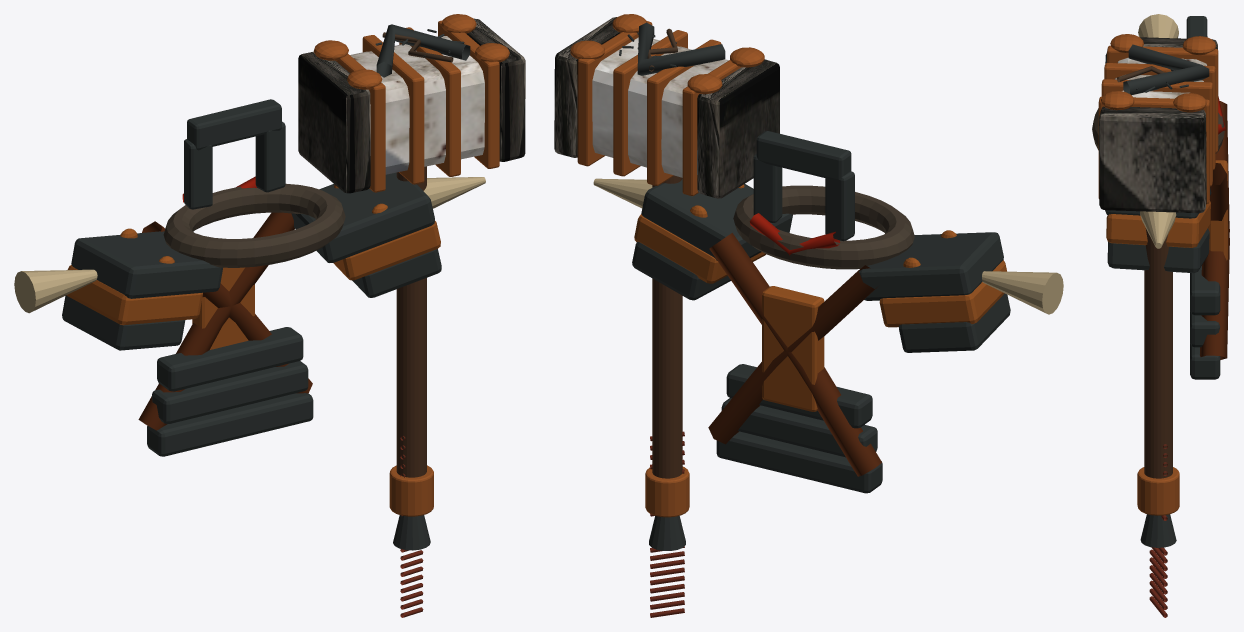
Rendered from brute_colossus_role_kit_LOD0.glb.
3 renders of one model, left to right at view 1: azimuth 30°, elevation 25°; view 2: azimuth 150°, elevation 25°; view 3: azimuth 270°, elevation 25°, orthographic. The views are drawn at different scales.
Parts seen in each view (by area): view 1: ColossusFurNeckRing, ColossusTwoHandMaul_MaulImpactFace, ColossusTwoHandMaul_ColossusMaulStoneCore, ColossusIronShoulderPlate, ColossusTwoHandMaul_MaulBlackOakHaft, ColossusIronShoulderPlate.003, ColossusAbdominalLamella.002, ColossusAbdominalLamella, ColossusAbdominalLamella.001, ColossusIronShoulderPlate.001, ColossusTwoHandMaul_MaulImpactFace.001, ColossusHarnessDiagonal.001 (+17 smaller); view 2: ColossusTwoHandMaul_MaulImpactFace, ColossusFurNeckRing, ColossusTwoHandMaul_ColossusMaulStoneCore, ColossusIronShoulderPlate, ColossusTwoHandMaul_MaulBlackOakHaft, ColossusBronzeSternumPlate, ColossusHarnessDiagonal.001, ColossusIronShoulderPlate.003, ColossusAbdominalLamella.002, ColossusHarnessDiagonal, ColossusIronShoulderPlate.001, ColossusAbdominalLamella.001 (+18 smaller); view 3: ColossusTwoHandMaul_MaulImpactFace.001, ColossusTwoHandMaul_MaulBlackOakHaft, ColossusHarnessDiagonal, ColossusIronShoulderPlate.004, ColossusIronShoulderPlate.005, ColossusTwoHandMaul_MaulLambda, ColossusTwoHandMaul_MaulButtCap, ColossusTwoHandMaul_MaulBronzeBand, ColossusAbdominalLamella, ColossusTwoHandMaul_MaulBronzeBand.002, ColossusTwoHandMaul_MaulBronzeBand.001, ColossusTwoHandMaul_MaulBronzeBand.003 (+17 smaller).
Boxes of the visible parts, x1=… form: ColossusFurNeckRing: x1=163, y1=183, x2=345, y2=267; ColossusTwoHandMaul_MaulImpactFace: x1=298, y1=51, x2=370, y2=193; ColossusTwoHandMaul_ColossusMaulStoneCore: x1=350, y1=36, x2=484, y2=174; ColossusIronShoulderPlate: x1=71, y1=231, x2=222, y2=298; ColossusTwoHandMaul_MaulBlackOakHaft: x1=396, y1=166, x2=426, y2=477; ColossusIronShoulderPlate.003: x1=291, y1=172, x2=434, y2=262; ColossusAbdominalLamella.002: x1=147, y1=393, x2=313, y2=456; ColossusAbdominalLamella: x1=157, y1=327, x2=303, y2=391; ColossusAbdominalLamella.001: x1=152, y1=361, x2=308, y2=423; ColossusIronShoulderPlate.001: x1=66, y1=265, x2=202, y2=325; ColossusTwoHandMaul_MaulImpactFace.001: x1=466, y1=18, x2=525, y2=161; ColossusHarnessDiagonal.001: x1=138, y1=212, x2=294, y2=430; ColossusTwoHandMaul_MaulImpactFace: x1=697, y1=59, x2=779, y2=198; ColossusFurNeckRing: x1=733, y1=185, x2=914, y2=269; ColossusTwoHandMaul_ColossusMaulStoneCore: x1=592, y1=37, x2=728, y2=177; ColossusIronShoulderPlate: x1=859, y1=232, x2=1003, y2=300; ColossusTwoHandMaul_MaulBlackOakHaft: x1=652, y1=175, x2=682, y2=478; ColossusBronzeSternumPlate: x1=762, y1=286, x2=824, y2=411; ColossusHarnessDiagonal.001: x1=709, y1=233, x2=881, y2=476; ColossusIronShoulderPlate.003: x1=641, y1=178, x2=792, y2=260; ColossusAbdominalLamella.002: x1=716, y1=431, x2=882, y2=493; ColossusHarnessDiagonal: x1=708, y1=265, x2=877, y2=444; ColossusIronShoulderPlate.001: x1=879, y1=260, x2=1006, y2=327; ColossusAbdominalLamella.001: x1=721, y1=398, x2=877, y2=457; ColossusTwoHandMaul_MaulImpactFace.001: x1=1099, y1=106, x2=1206, y2=213; ColossusTwoHandMaul_MaulBlackOakHaft: x1=1144, y1=228, x2=1172, y2=478; ColossusHarnessDiagonal: x1=1200, y1=101, x2=1229, y2=359; ColossusIronShoulderPlate.004: x1=1106, y1=200, x2=1210, y2=247; ColossusIronShoulderPlate.005: x1=1107, y1=228, x2=1209, y2=273; ColossusTwoHandMaul_MaulLambda: x1=1123, y1=44, x2=1209, y2=95; ColossusTwoHandMaul_MaulButtCap: x1=1137, y1=467, x2=1179, y2=515; ColossusTwoHandMaul_MaulBronzeBand: x1=1107, y1=45, x2=1218, y2=152; ColossusAbdominalLamella: x1=1190, y1=266, x2=1220, y2=315; ColossusTwoHandMaul_MaulBronzeBand.002: x1=1101, y1=79, x2=1212, y2=186; ColossusTwoHandMaul_MaulBronzeBand.001: x1=1104, y1=63, x2=1215, y2=169; ColossusTwoHandMaul_MaulBronzeBand.003: x1=1098, y1=96, x2=1209, y2=203.
Size of the model in its own units: 1.91 by 2.21 by 0.5026.
Materials: 13 (2 with a texture image).
